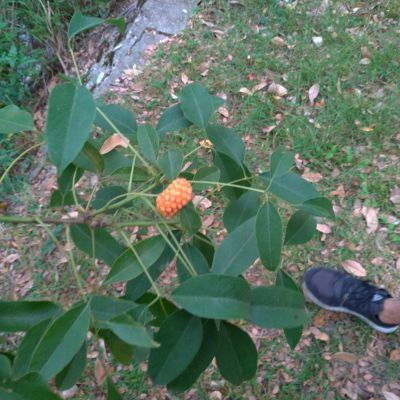eggs: (151, 174, 198, 216)
